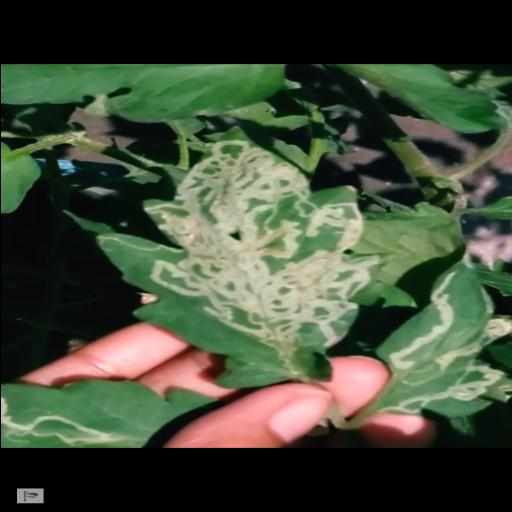Leaf Miner: (94, 126, 388, 390), (374, 260, 512, 418)
